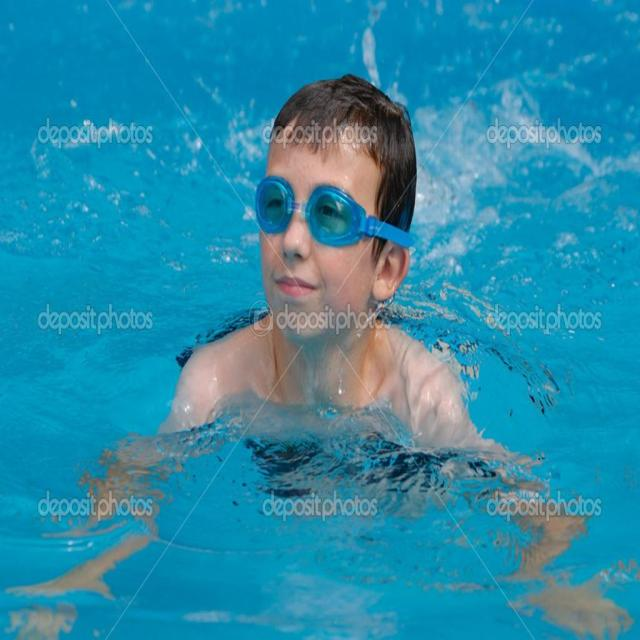Face: (250, 116, 398, 353)
